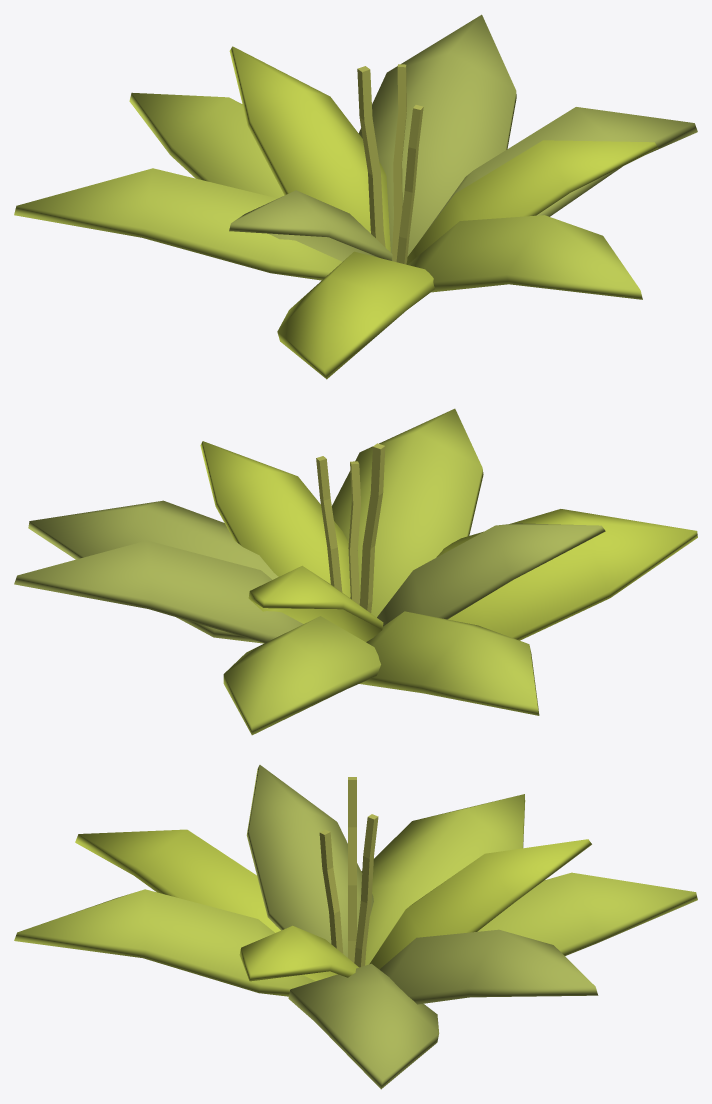
File: Leaf_Plant_Yellow_2.fbx
The picture shows the model from 3 angles, top to bottom: view 1: azimuth 30°, elevation 25°; view 2: azimuth 150°, elevation 25°; view 3: azimuth 270°, elevation 25°; orthographic projection. The views are drawn at different scales.
Parts seen in each view (by area): view 1: Plane.270, Plane.264, Plane.271, Plane.263, Plane.267, Plane.272, Plane.265, Plane.266, Plane.273, Cube.411, Cube.409, Cube.410; view 2: Plane.263, Plane.270, Plane.267, Plane.264, Plane.272, Plane.265, Plane.273, Plane.266, Plane.271, Cube.411, Cube.410, Cube.409; view 3: Plane.263, Plane.273, Plane.270, Plane.264, Plane.266, Plane.265, Plane.271, Plane.267, Plane.272, Cube.410, Cube.411, Cube.409.
Boxes of the visible parts, x1,y1,x2,y2 form: Plane.270: (358, 14, 516, 256); Plane.264: (14, 168, 341, 280); Plane.271: (229, 46, 390, 251); Plane.263: (408, 215, 642, 299); Plane.267: (277, 251, 434, 379); Plane.272: (406, 140, 658, 264); Plane.265: (129, 92, 284, 198); Plane.266: (419, 107, 697, 240); Plane.273: (229, 190, 392, 261); Cube.411: (357, 66, 385, 247); Cube.409: (396, 105, 423, 264); Cube.410: (392, 64, 406, 261); Plane.263: (332, 408, 483, 617); Plane.270: (14, 540, 303, 643); Plane.267: (436, 509, 697, 640); Plane.264: (359, 611, 539, 715); Plane.272: (200, 441, 350, 597); Plane.265: (223, 616, 380, 735); Plane.273: (377, 523, 605, 626); Plane.266: (28, 500, 278, 643); Plane.271: (248, 565, 383, 641); Cube.411: (359, 443, 385, 612); Cube.410: (316, 456, 342, 592); Cube.409: (348, 461, 360, 604); Plane.263: (14, 889, 315, 996); Plane.273: (246, 765, 373, 957); Plane.270: (379, 929, 598, 1004); Plane.264: (361, 794, 525, 965); Plane.266: (288, 963, 439, 1089); Plane.265: (477, 872, 697, 955); Plane.271: (369, 839, 591, 969); Plane.267: (75, 829, 280, 932); Plane.272: (239, 925, 358, 981); Cube.410: (354, 814, 378, 967); Cube.411: (348, 777, 356, 962); Cube.409: (319, 829, 343, 953).
Bounding box in the file's own units: 171 × 60.93 × 177.
